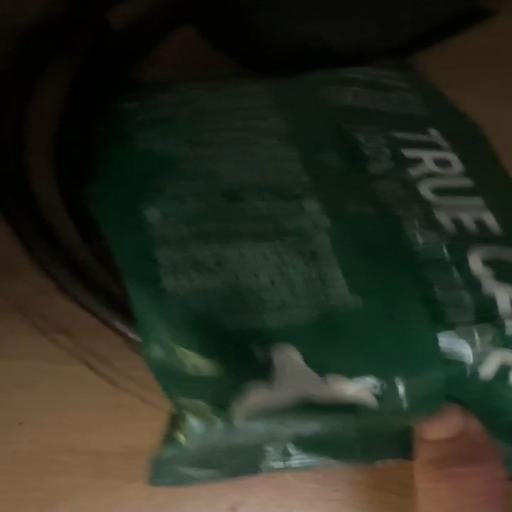cafe_xay: (90, 63, 511, 486)
